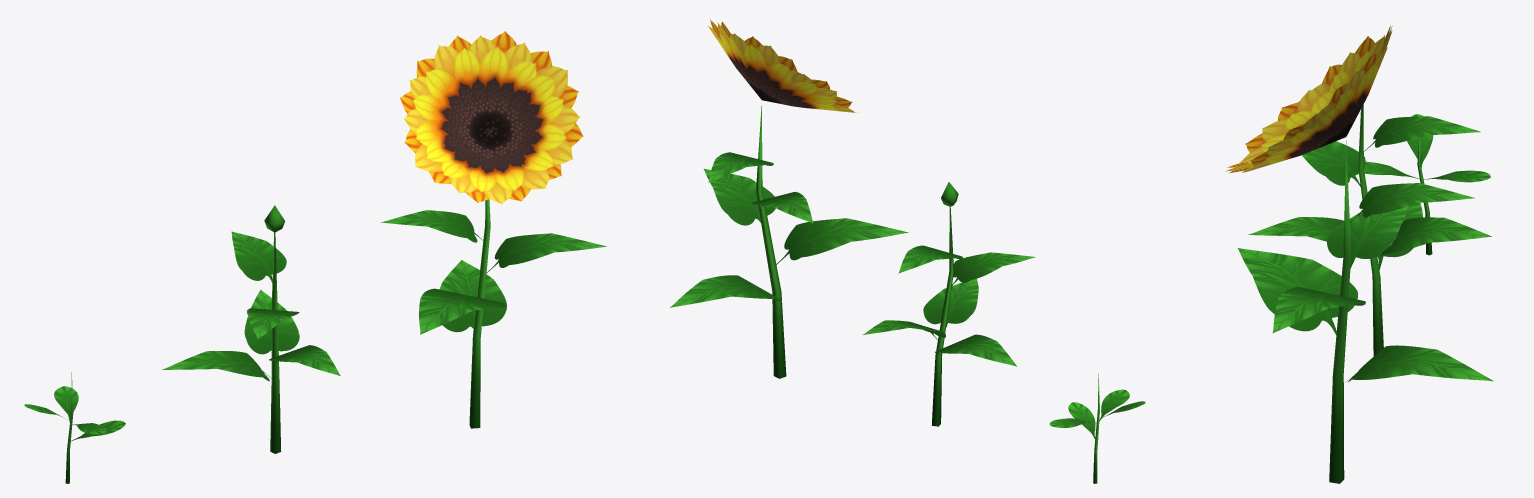
File: SunFlower_Lv.FBX
3 views of the same model, side by side, from view 1: azimuth 30°, elevation 25°; view 2: azimuth 150°, elevation 25°; view 3: azimuth 270°, elevation 25° (orthographic). The views are drawn at different scales.
Parts seen in each view (by area): view 1: SunFlower_Lv3, SunFlower_Lv2, SunFlower_Lv1; view 2: SunFlower_Lv3, SunFlower_Lv2, SunFlower_Lv1; view 3: SunFlower_Lv3, SunFlower_Lv2, SunFlower_Lv1.
Boxes of the visible parts, x1=… form: SunFlower_Lv3: x1=380, y1=31, x2=606, y2=428; SunFlower_Lv2: x1=162, y1=205, x2=340, y2=453; SunFlower_Lv1: x1=24, y1=372, x2=125, y2=483; SunFlower_Lv3: x1=670, y1=19, x2=908, y2=378; SunFlower_Lv2: x1=863, y1=182, x2=1035, y2=426; SunFlower_Lv1: x1=1049, y1=373, x2=1145, y2=483; SunFlower_Lv3: x1=1225, y1=25, x2=1493, y2=483; SunFlower_Lv2: x1=1248, y1=104, x2=1491, y2=356; SunFlower_Lv1: x1=1364, y1=114, x2=1490, y2=255.
Bounding box in the file's own units: 225 × 153 × 98.86.
